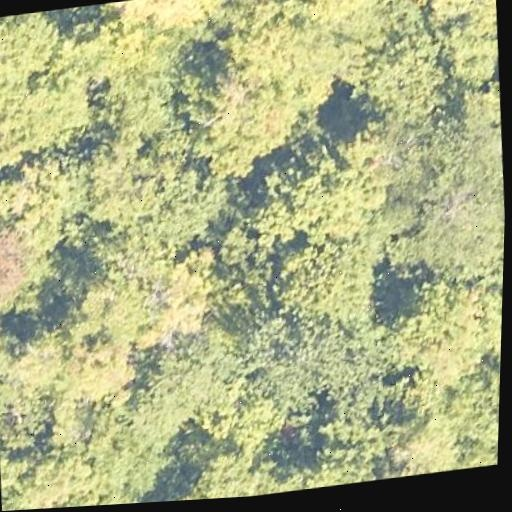tree-top: (373, 103, 508, 279), (250, 126, 394, 253), (376, 266, 503, 409), (219, 0, 382, 107), (74, 117, 205, 239), (0, 5, 99, 163), (185, 52, 307, 176), (266, 212, 391, 333), (80, 6, 203, 116), (241, 301, 358, 408), (137, 326, 252, 421), (0, 436, 137, 511), (165, 432, 299, 501), (354, 38, 448, 131), (83, 238, 169, 339), (425, 367, 500, 471), (56, 331, 142, 411), (148, 253, 224, 340), (426, 0, 502, 86), (376, 404, 457, 480), (101, 0, 234, 43), (306, 409, 375, 488), (0, 209, 45, 314), (377, 0, 457, 7)
